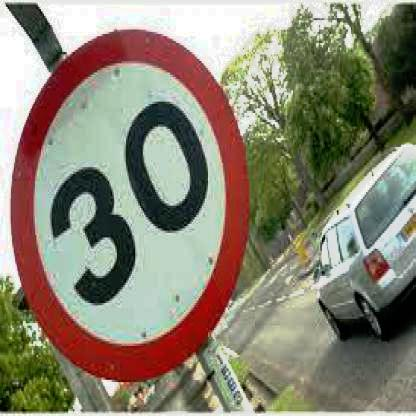Speed Limit -30-: (4, 19, 254, 387)
